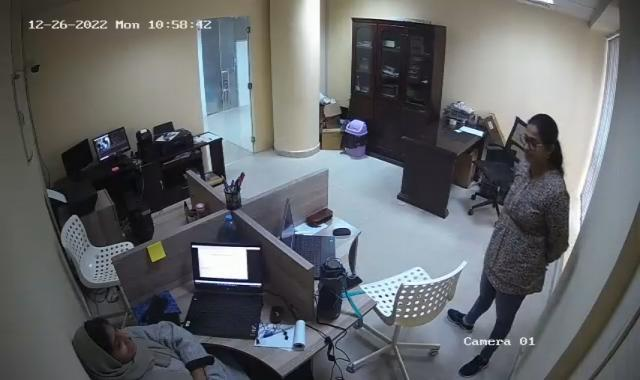no_hairnet: (82, 316, 137, 362), (520, 116, 550, 164)
